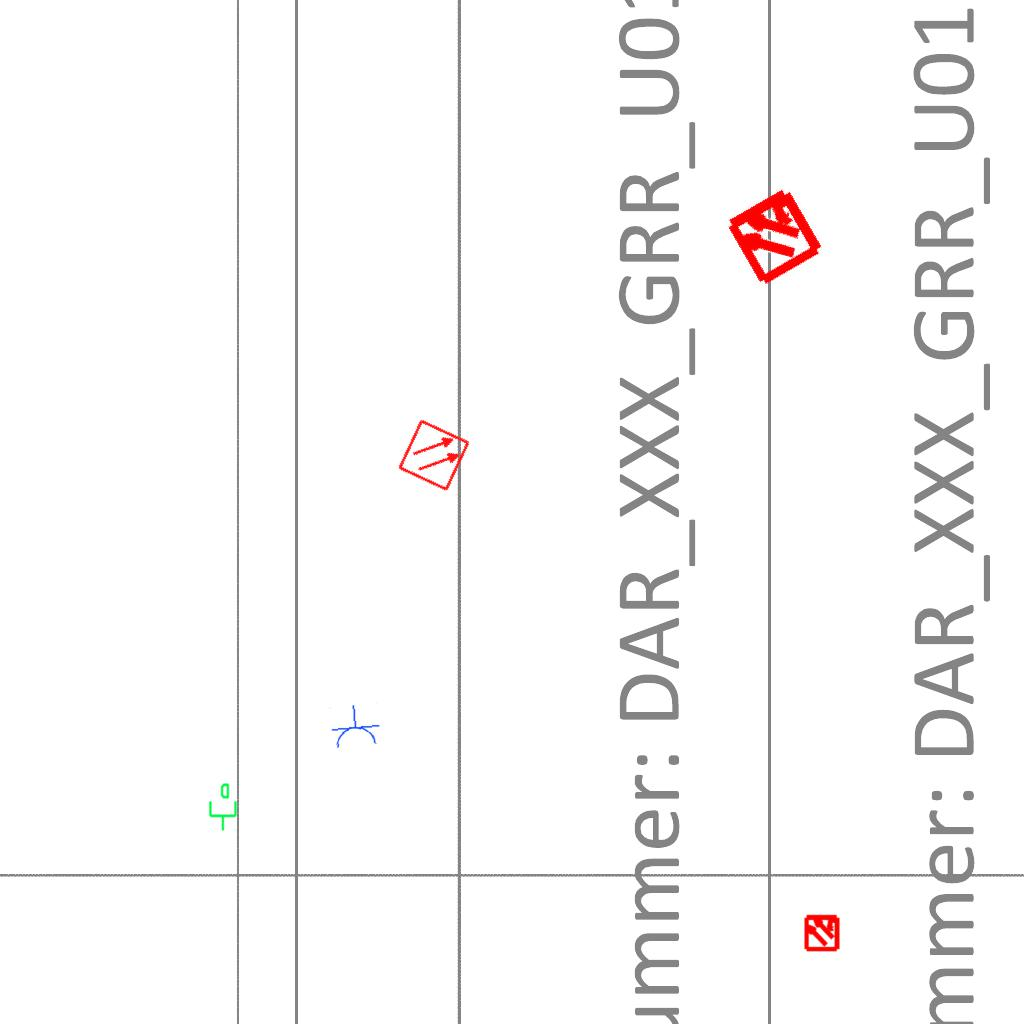Datenanschluss_einfach: (205, 782, 239, 832)
OT_Multisensormelder_(Kombination_RMO_WMD): (696, 157, 851, 312), (794, 904, 850, 960)
RMO_Rauchmelder_optischer: (396, 417, 472, 493)
Schukosteckdose_einfach: (328, 702, 382, 751)
